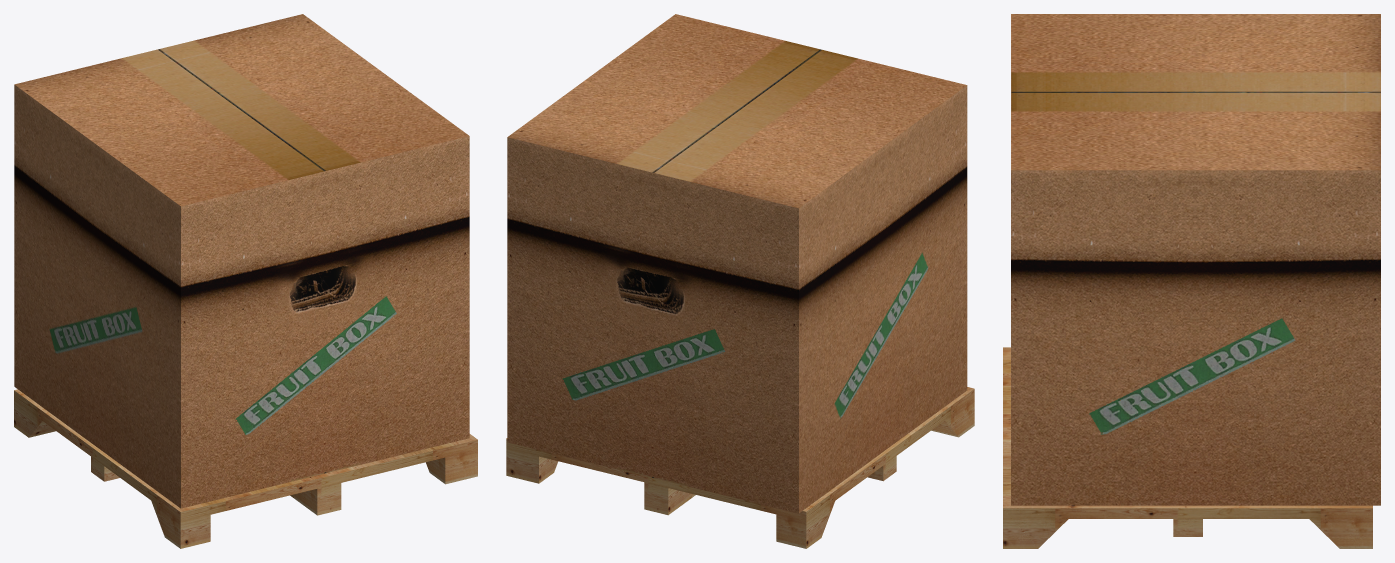
Rendered from WarehouseBox_centered_no_metallic.glb.
The picture shows the model from 3 angles, left to right: view 1: azimuth 30°, elevation 25°; view 2: azimuth 150°, elevation 25°; view 3: azimuth 270°, elevation 25°; orthographic projection. The views are drawn at different scales.
Parts seen in each view (by area): view 1: Cardboard_box03__1__45, BigShelvesWoodBox__1__27; view 2: Cardboard_box03__1__45, BigShelvesWoodBox__1__27; view 3: Cardboard_box03__1__45, BigShelvesWoodBox__1__27.
Part boxes in pixels (left/top/right/bottom): Cardboard_box03__1__45: left=14, top=14, right=469, bottom=508; BigShelvesWoodBox__1__27: left=14, top=389, right=477, bottom=548; Cardboard_box03__1__45: left=507, top=14, right=967, bottom=513; BigShelvesWoodBox__1__27: left=506, top=387, right=974, bottom=548; Cardboard_box03__1__45: left=1011, top=14, right=1380, bottom=505; BigShelvesWoodBox__1__27: left=1003, top=347, right=1372, bottom=548.
Bounding box in the file's own units: 1.05 × 1.14 × 1.04.
2 materials, 2 textured.
